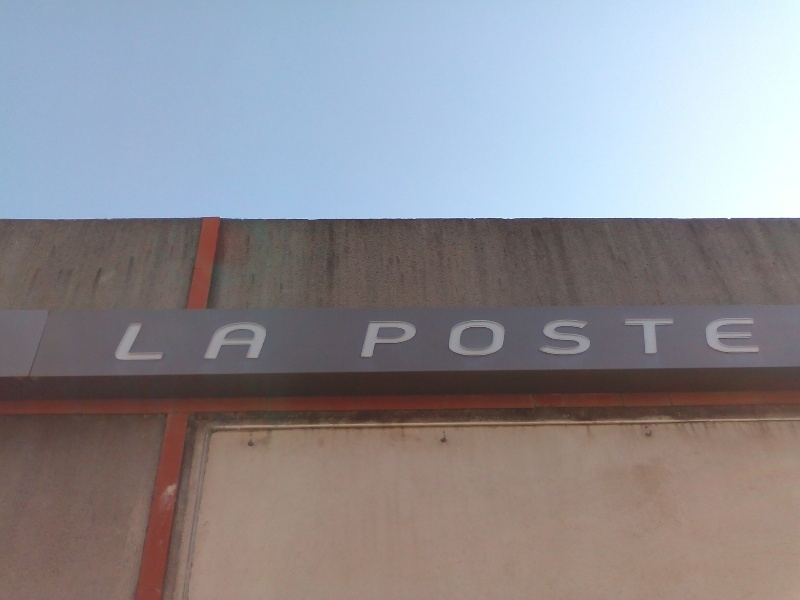text: (369, 315, 384, 362), (385, 315, 400, 362), (401, 315, 416, 362), (417, 315, 432, 362), (433, 315, 448, 362), (449, 315, 464, 362), (465, 315, 480, 362), (481, 315, 496, 362), (497, 315, 512, 362), (513, 315, 528, 362), (529, 315, 544, 362), (545, 315, 560, 362), (561, 315, 576, 362), (577, 315, 592, 362), (593, 315, 608, 362), (609, 315, 624, 362), (625, 315, 640, 362), (641, 315, 656, 362), (657, 315, 672, 362), (673, 315, 688, 362), (689, 315, 704, 362), (705, 315, 720, 362), (721, 315, 736, 362), (737, 315, 752, 362), (129, 320, 144, 363), (145, 320, 160, 363), (161, 320, 176, 363), (177, 320, 192, 363), (193, 320, 208, 363), (209, 320, 224, 363), (225, 320, 240, 363), (241, 320, 256, 363), (257, 320, 272, 363), (753, 315, 765, 362), (124, 320, 128, 363), (366, 315, 368, 362), (273, 320, 274, 363)
